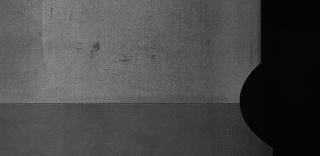welding line: (1, 98, 247, 109)
